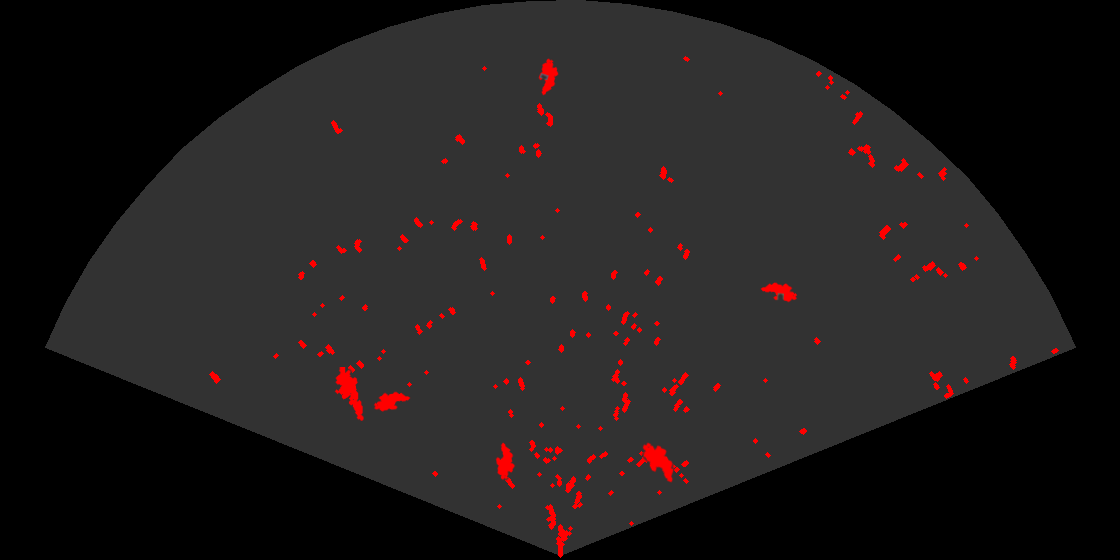AUV: (641, 441, 675, 484), (494, 441, 517, 482), (537, 57, 560, 97), (759, 281, 799, 304), (372, 390, 412, 413)
frogman: (333, 367, 365, 421)
